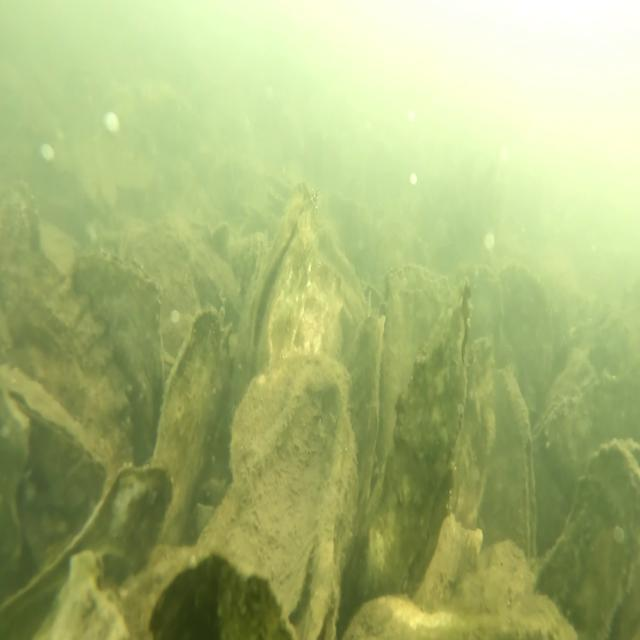Oyster-Closed: (357, 274, 472, 604), (71, 243, 171, 453), (0, 359, 112, 486), (530, 390, 592, 556), (490, 366, 536, 566)
Oyster-Indeterminate: (0, 177, 137, 466), (0, 462, 170, 639), (535, 437, 640, 640), (152, 304, 224, 548), (146, 551, 292, 640), (454, 337, 494, 531)
Oyster-Open: (203, 368, 347, 640), (232, 183, 320, 392), (340, 299, 390, 532)
